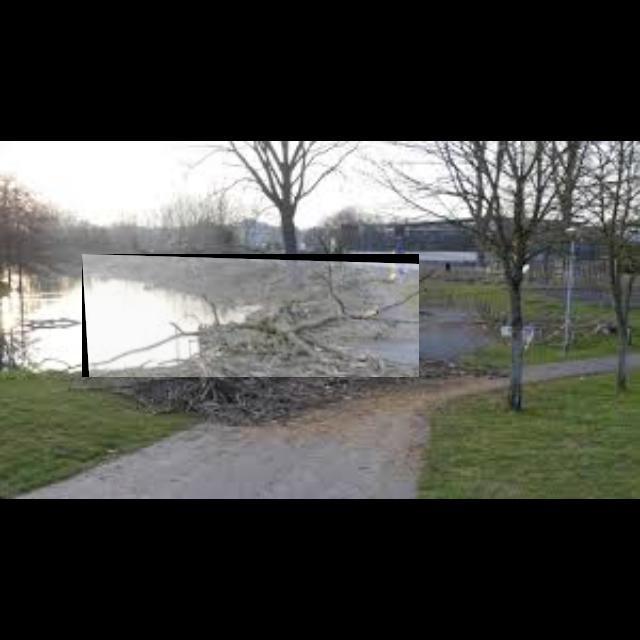fallen_tree: (82, 254, 420, 378)
